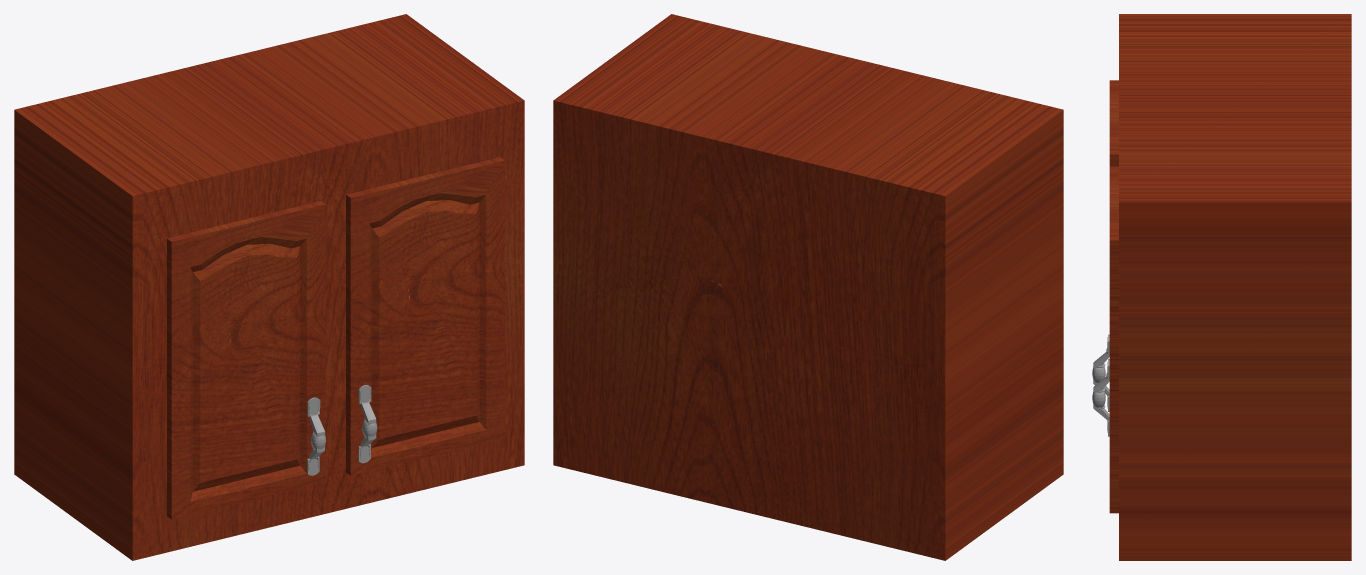
Rendered from 2DoorUpperCabinet.obj.
3 renders of one model, left to right at view 1: azimuth 30°, elevation 25°; view 2: azimuth 150°, elevation 25°; view 3: azimuth 270°, elevation 25°, orthographic.
Visible parts, largest first — view 1: PolyMesh_10.002, Curvedtopcabinet_1, Curvedtopcabinet.002, verthandle_3.004, verthandle_2.001; view 2: PolyMesh_10.002; view 3: PolyMesh_10.002, Curvedtopcabinet_1, Curvedtopcabinet.002, verthandle_3.004.
Part boxes in pixels (left/top/right/bottom): PolyMesh_10.002: left=14, top=14, right=524, bottom=560; Curvedtopcabinet_1: left=346, top=157, right=504, bottom=475; Curvedtopcabinet.002: left=167, top=201, right=325, bottom=519; verthandle_3.004: left=358, top=385, right=376, bottom=463; verthandle_2.001: left=307, top=397, right=325, bottom=475; PolyMesh_10.002: left=553, top=14, right=1063, bottom=560; PolyMesh_10.002: left=1119, top=14, right=1351, bottom=560; Curvedtopcabinet_1: left=1109, top=166, right=1118, bottom=513; Curvedtopcabinet.002: left=1109, top=80, right=1118, bottom=166; verthandle_3.004: left=1093, top=359, right=1109, bottom=436.
Size of the model in its own units: 6.75 by 6 by 3.93.
